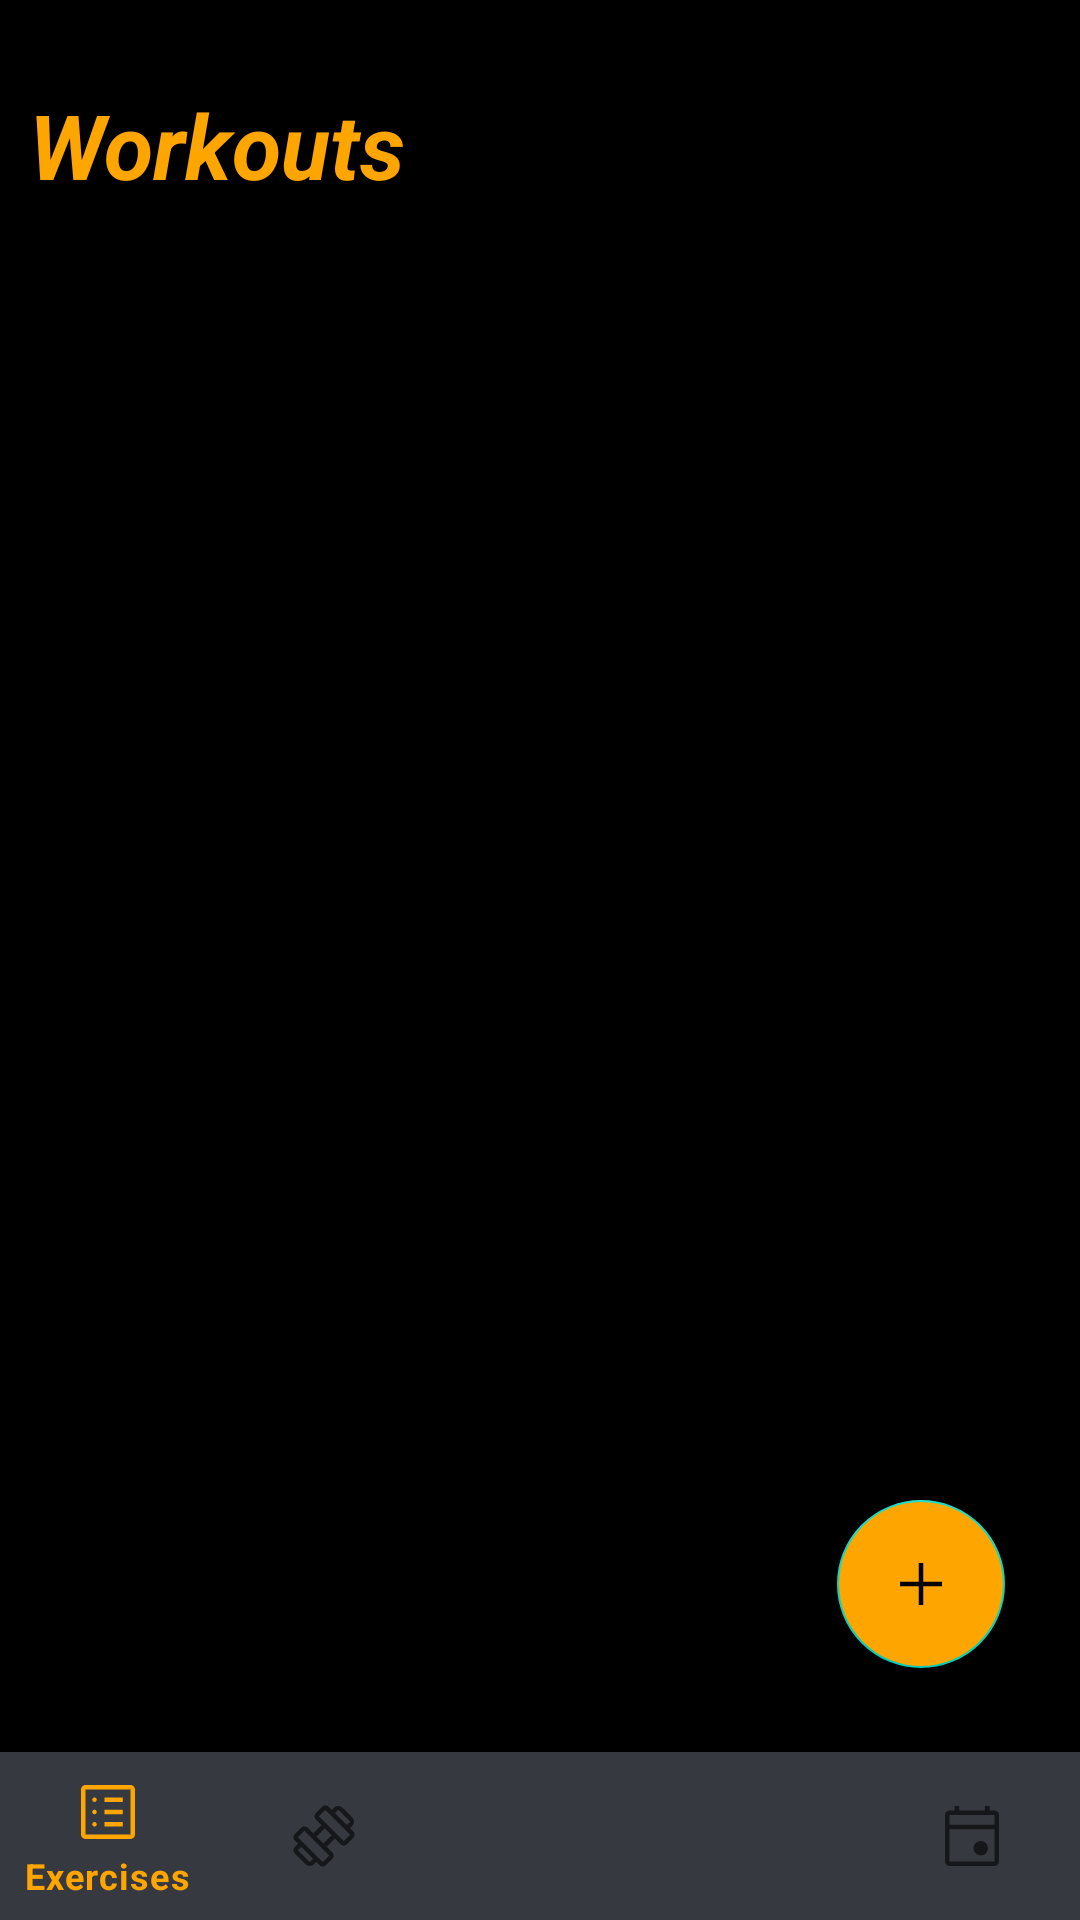

Named icons in this screenshot (1080 × 1920) and their centers, [x,y]:
add: [921,1584]
